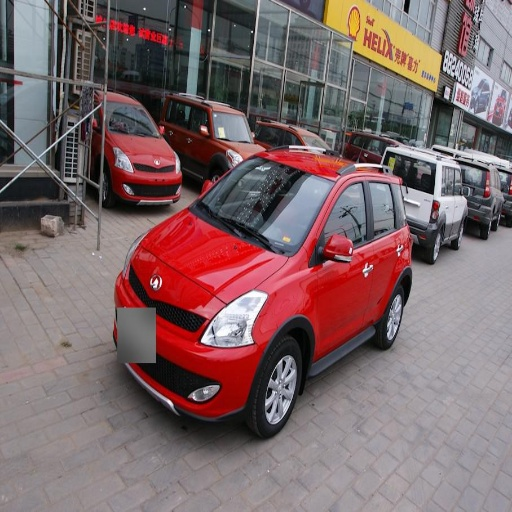back_left_door: (365, 177, 399, 320)
front_bumper: (143, 302, 265, 420)
front_glass: (190, 158, 332, 255)
front_left_door: (313, 174, 369, 357)
